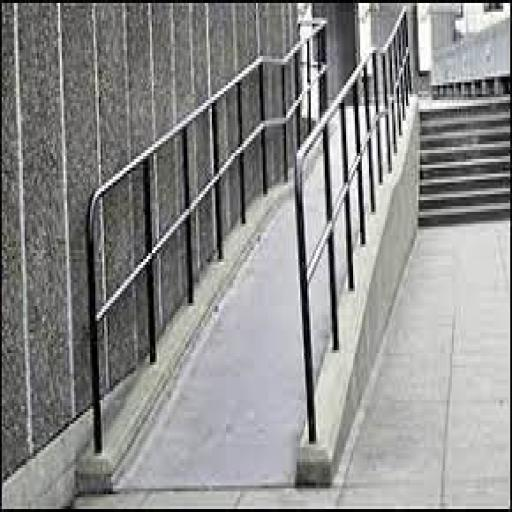ramp: (97, 106, 408, 488)
stairs: (418, 102, 512, 231)
